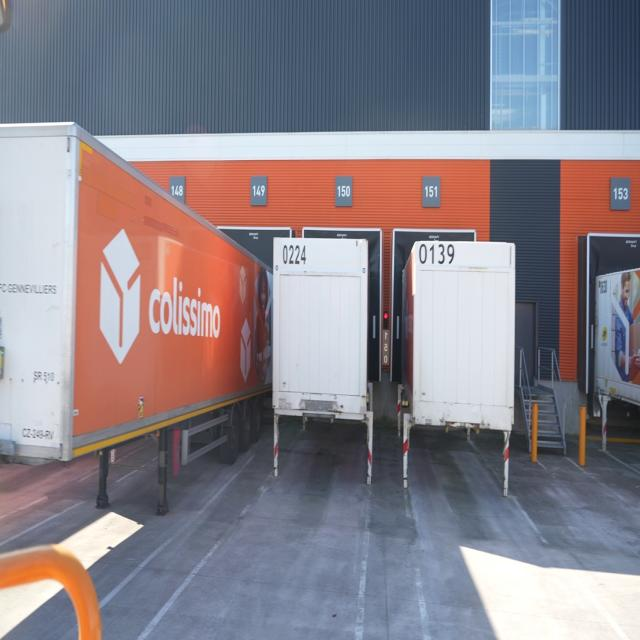Code: (418, 237, 456, 268), (279, 241, 309, 270)
